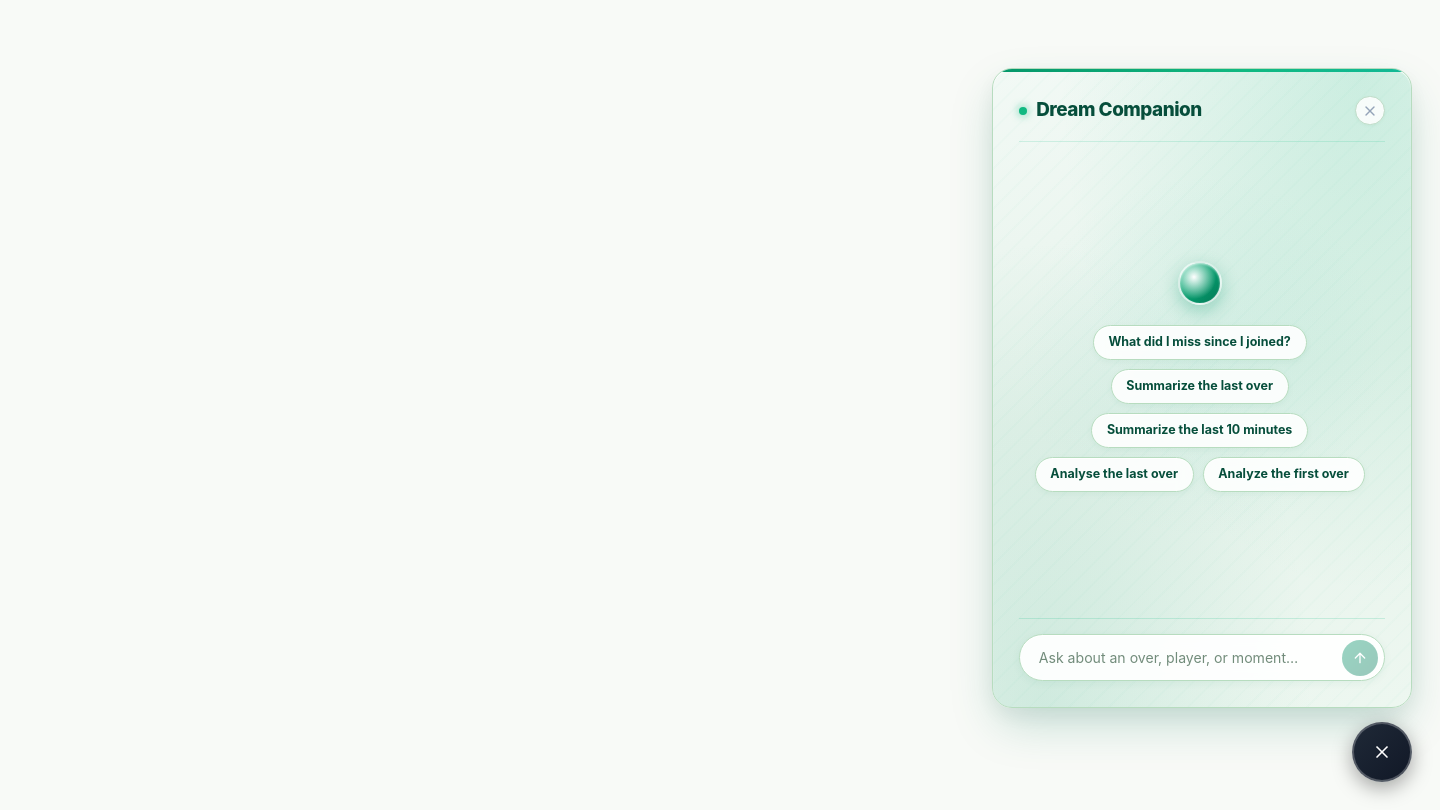
Scenario: MatchCompanionChat › renders informative message when a 422 missing session error occurs
This screenshot has width=1440, height=810.
Click the button "What did I miss since I joined?".
click(1200, 343)  # box 1093,325 -> 1306,360
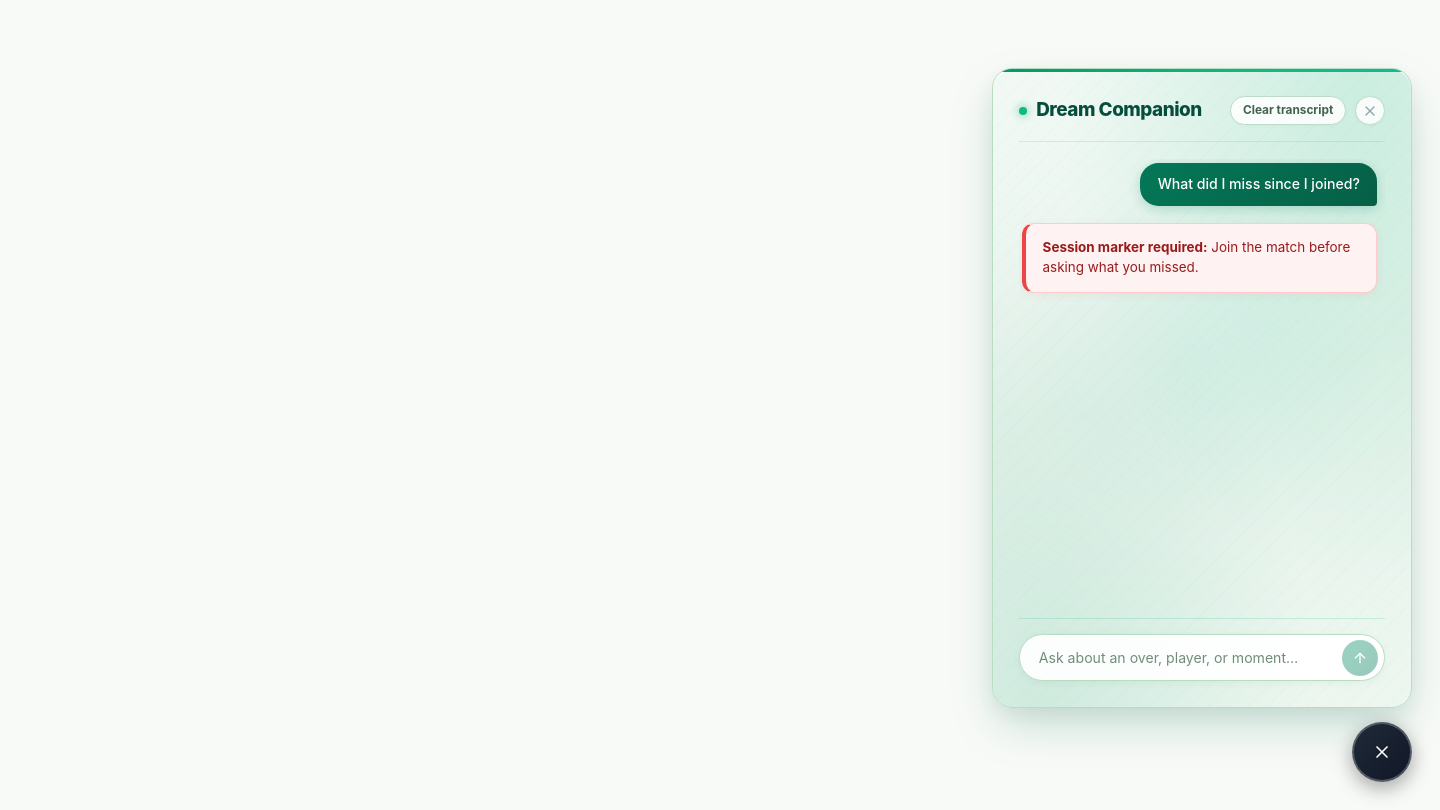
Expected: the text "Session marker required:" is shown, 1043,239 -> 1208,255
